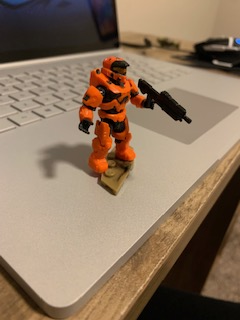rifle: (136, 77, 192, 130)
spartan: (76, 54, 152, 175)
